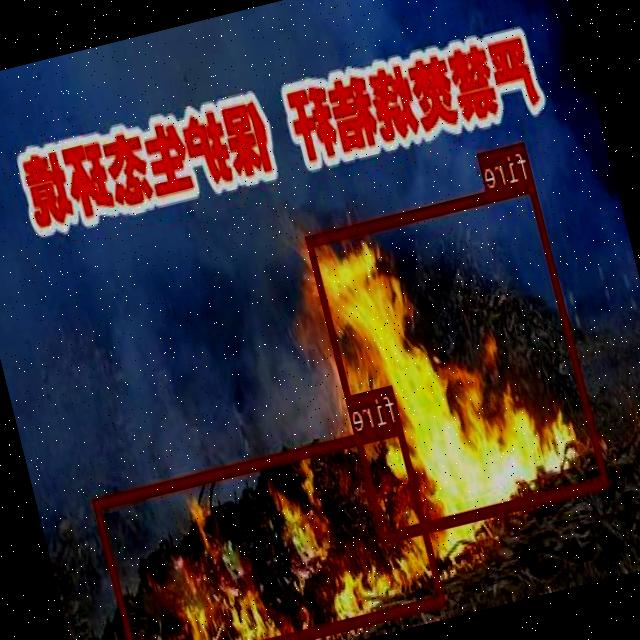fire: (306, 178, 610, 542), (93, 421, 447, 640)
